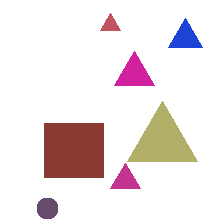circle: (37, 198, 57, 218)
rectangle: (44, 123, 103, 177)
triangle: (127, 101, 197, 161), (114, 51, 154, 85), (168, 18, 202, 47), (110, 163, 140, 188), (100, 13, 120, 30)
